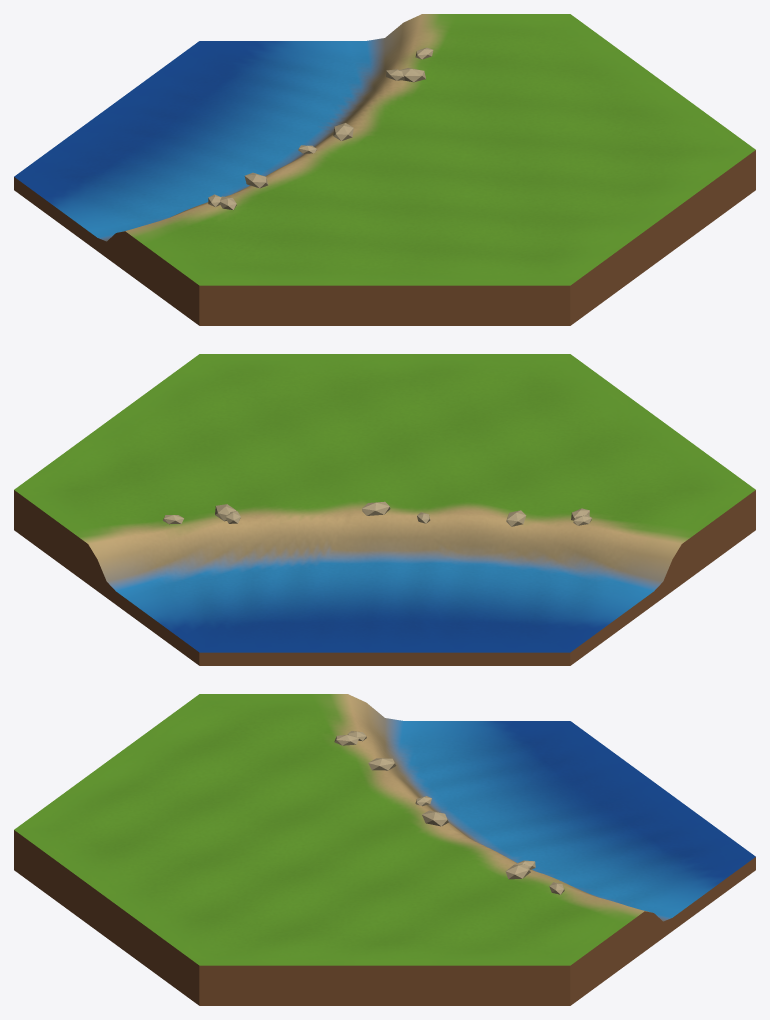
File: SM_Agua_Bahia_LOD0.fbx
3 views of the same model, one above another, from view 1: azimuth 30°, elevation 25°; view 2: azimuth 150°, elevation 25°; view 3: azimuth 270°, elevation 25° (orthographic).
Visible parts, largest first — view 1: SM_Agua_Bahia_LOD0; view 2: SM_Agua_Bahia_LOD0; view 3: SM_Agua_Bahia_LOD0.
Part boxes in pixels (x1=…): SM_Agua_Bahia_LOD0: x1=14, y1=14, x2=755, y2=325; SM_Agua_Bahia_LOD0: x1=14, y1=354, x2=755, y2=665; SM_Agua_Bahia_LOD0: x1=14, y1=694, x2=755, y2=1005.
Bounding box in the file's own units: 1.73 × 0.1485 × 2.
Materials: 1 (1 with a texture image).
